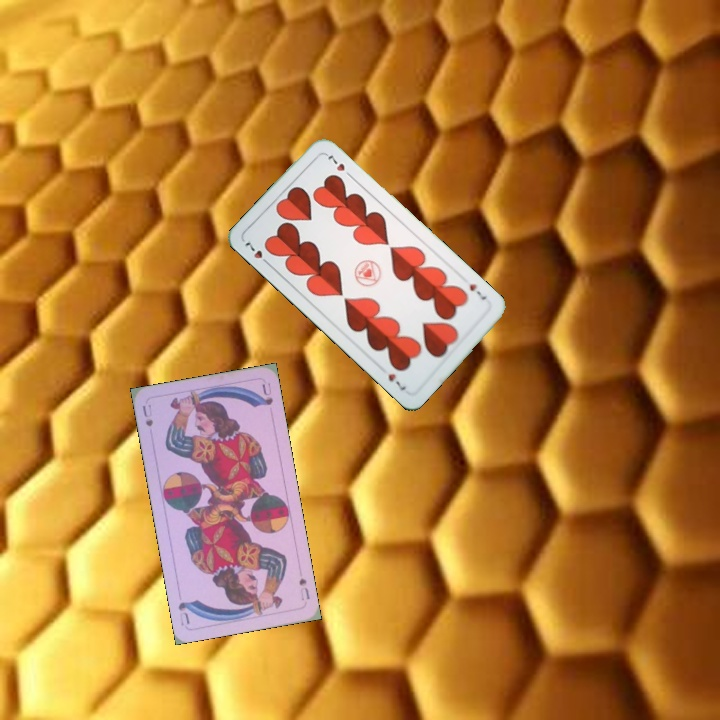H7: (241, 238, 273, 268), (465, 279, 489, 303)
SU: (138, 400, 155, 429), (295, 574, 312, 603)
